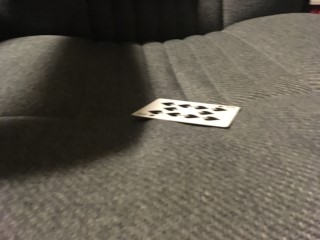TenOfSpades: (131, 98, 241, 127)
